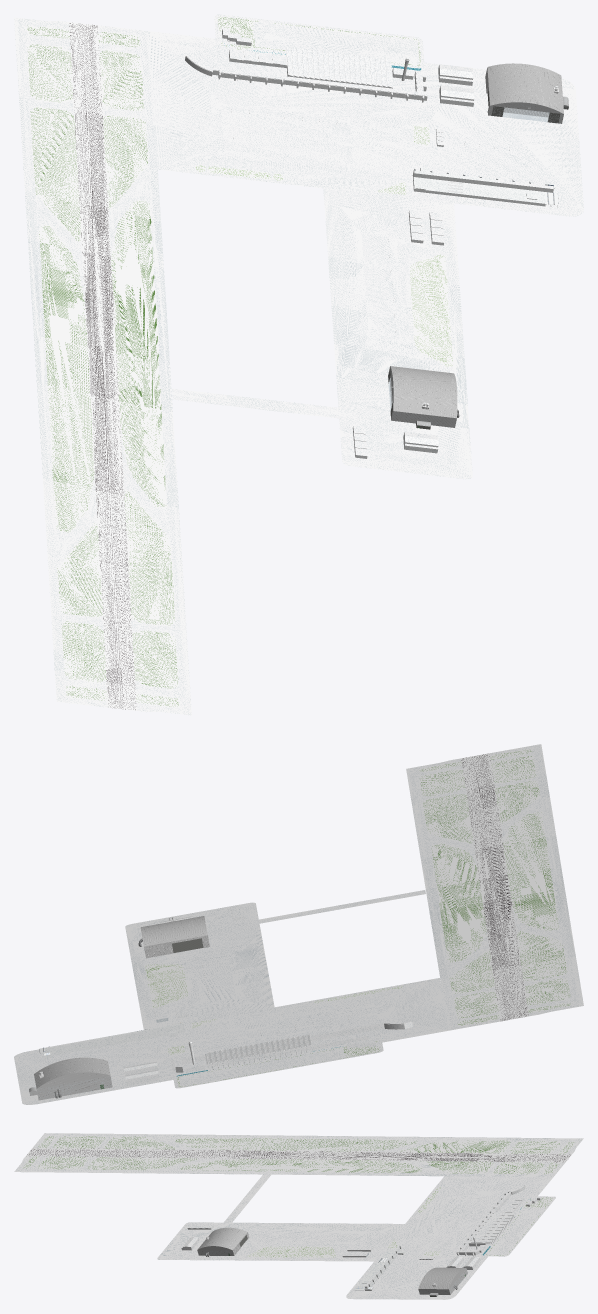
The model's file is VHHX.glb.
3 views of the same model, one above another, from view 1: azimuth 30°, elevation 25°; view 2: azimuth 210°, elevation 25°; view 3: azimuth 270°, elevation 25° (orthographic). The views are drawn at different scales.
Visible parts, largest first — view 1: ID2066-6, ID2066-7, ID219-25.001, ID219-25, ID219-13.001, ID219-13, ID325-3, ID219-0.001, ID219-0, ID2066-15, ID219-16, ID219-16.001 (+28 smaller); view 2: ID2066-6, ID2066-7, ID325-3, ID219-25.001, ID219-25, ID219-13, ID219-13.001, ID219-0.001, ID219-0, ID2066-15, ID219-16.001, ID219-16 (+25 smaller); view 3: ID2066-6, ID2066-7, ID219-25.001, ID219-25, ID219-13.001, ID219-13, ID325-3, ID219-0.001, ID219-0, ID2066-15, ID219-16.001, ID219-16 (+28 smaller).
Part boxes in pixels (x1,y1,x2,y2): ID2066-6: [148, 31, 583, 479]; ID2066-7: [148, 32, 583, 478]; ID219-25.001: [14, 17, 107, 707]; ID219-25: [97, 25, 191, 715]; ID219-13.001: [39, 225, 94, 532]; ID219-13: [111, 200, 166, 507]; ID325-3: [164, 14, 427, 102]; ID219-0.001: [69, 22, 123, 709]; ID219-0: [82, 23, 136, 710]; ID2066-15: [221, 103, 353, 164]; ID219-16: [124, 491, 175, 625]; ID219-16.001: [30, 107, 81, 241]; ID2066-6: [14, 890, 448, 1104]; ID2066-7: [14, 890, 447, 1104]; ID325-3: [170, 1022, 433, 1088]; ID219-25.001: [490, 744, 583, 1016]; ID219-25: [406, 758, 500, 1030]; ID219-13: [431, 843, 486, 962]; ID219-13.001: [503, 812, 558, 930]; ID219-0.001: [474, 753, 528, 1018]; ID219-0: [461, 756, 515, 1021]; ID2066-15: [245, 1001, 376, 1040]; ID219-16.001: [516, 931, 567, 980]; ID219-16: [422, 794, 473, 843]; ID2066-6: [157, 1174, 552, 1299]; ID2066-7: [158, 1174, 547, 1299]; ID219-25.001: [33, 1133, 583, 1154]; ID219-25: [14, 1156, 564, 1177]; ID219-13.001: [175, 1137, 417, 1151]; ID219-13: [181, 1158, 422, 1173]; ID325-3: [456, 1181, 555, 1256]; ID219-0.001: [29, 1148, 571, 1157]; ID219-0: [26, 1152, 568, 1162]; ID2066-15: [420, 1196, 485, 1233]; ID219-16.001: [399, 1140, 510, 1153]; ID219-16: [87, 1157, 198, 1170].
Bounding box in the file's own units: 1918 × 475 × 1957.
44 materials, 23 textured.
